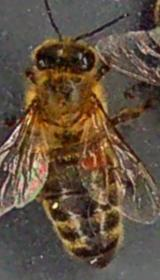varroa_mite: (76, 139, 112, 176)
